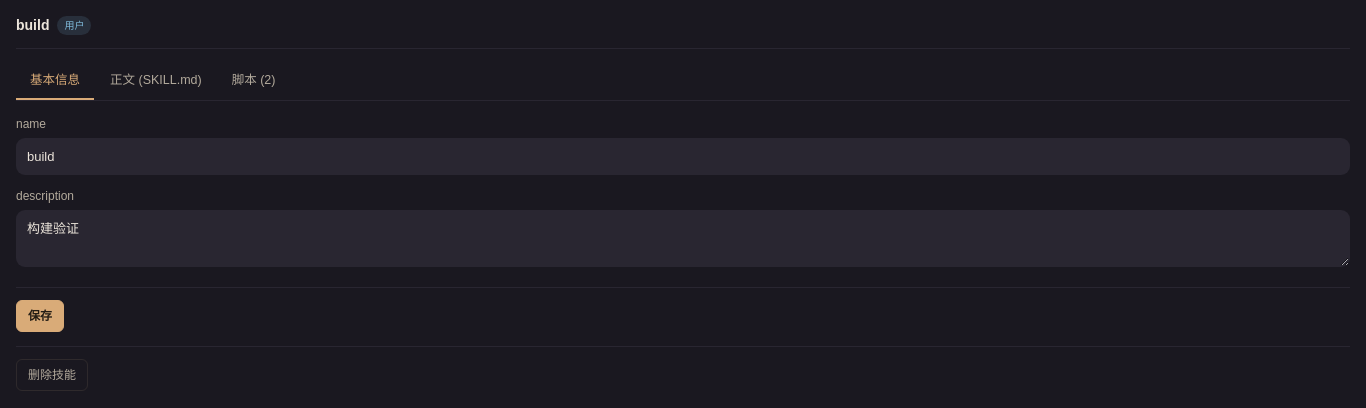
Test: SkillEditor › 脚本 tab 列出 metadata.scripts
This screenshot has width=1366, height=408.
Click the button "脚本 (2)".
click(254, 81)  # box top-left (218, 63), bottom-right (290, 100)
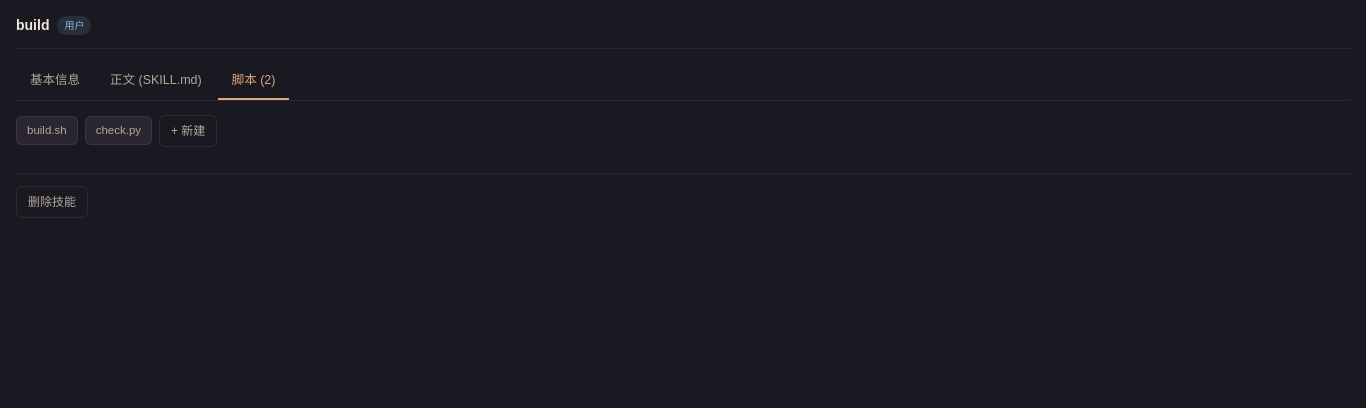
Expected: the text "build.sh" is shown, top-left (16, 116), bottom-right (78, 145)
Expected: the text "check.py" is shown, top-left (85, 116), bottom-right (152, 145)
